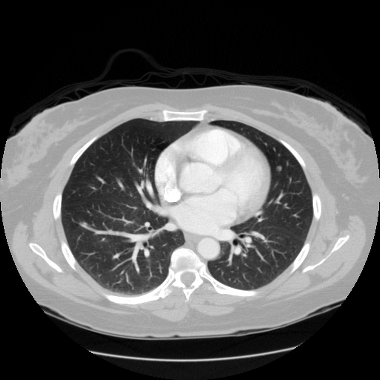nodule: (276, 166, 282, 172)
